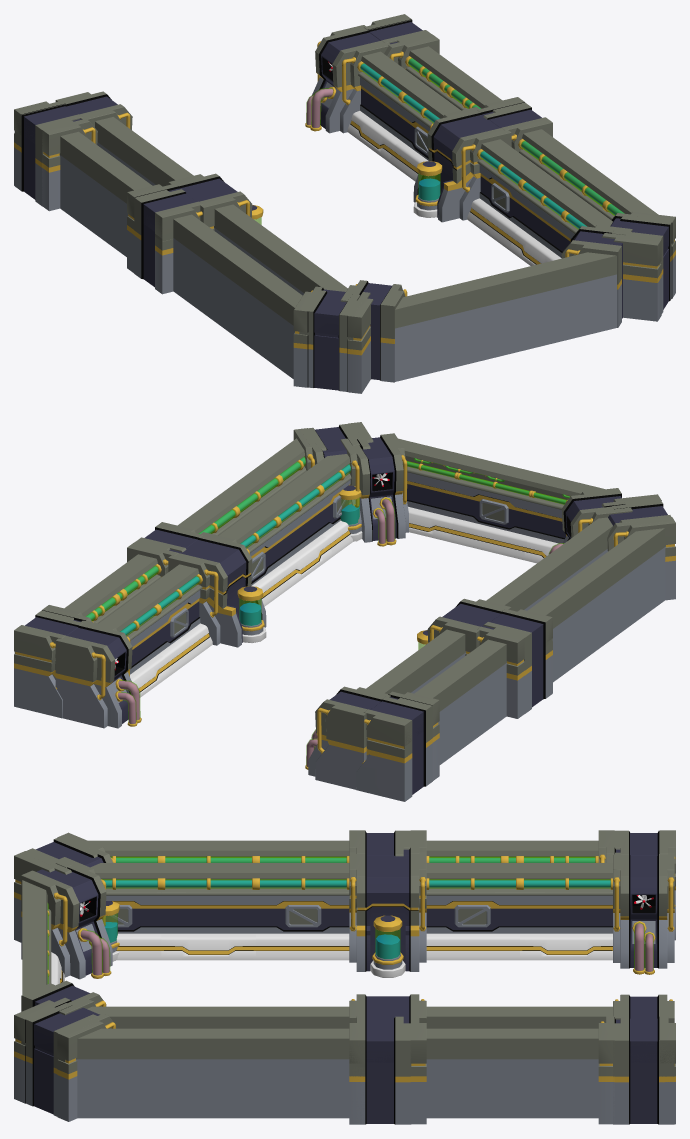
The model's file is Level2.fbx.
3 renders of one model, top to bottom at view 1: azimuth 30°, elevation 25°; view 2: azimuth 150°, elevation 25°; view 3: azimuth 270°, elevation 25°, orthographic. The views are drawn at different scales.
Visible parts, largest first — view 1: Base (×42), Bottle, Pipe1; view 2: Base (×43), Bottle (×2), Cage; view 3: Base (×43), Pipe1 (×15), Bottle (×2), Cage (×2).
Boxes of the visible parts, bbox=[...] form: Base (×42): bbox=[14, 14, 675, 393]; Bottle: bbox=[413, 161, 442, 217]; Pipe1: bbox=[310, 87, 335, 131]; Base (×43): bbox=[14, 422, 675, 801]; Bottle (×2): bbox=[237, 485, 362, 642]; Cage: bbox=[479, 499, 508, 524]; Base (×43): bbox=[14, 830, 675, 1124]; Pipe1 (×15): bbox=[77, 856, 646, 978]; Bottle (×2): bbox=[102, 901, 405, 977]; Cage (×2): bbox=[285, 905, 490, 927].
Size of the model in its own units: 385 by 73.12 by 513.
